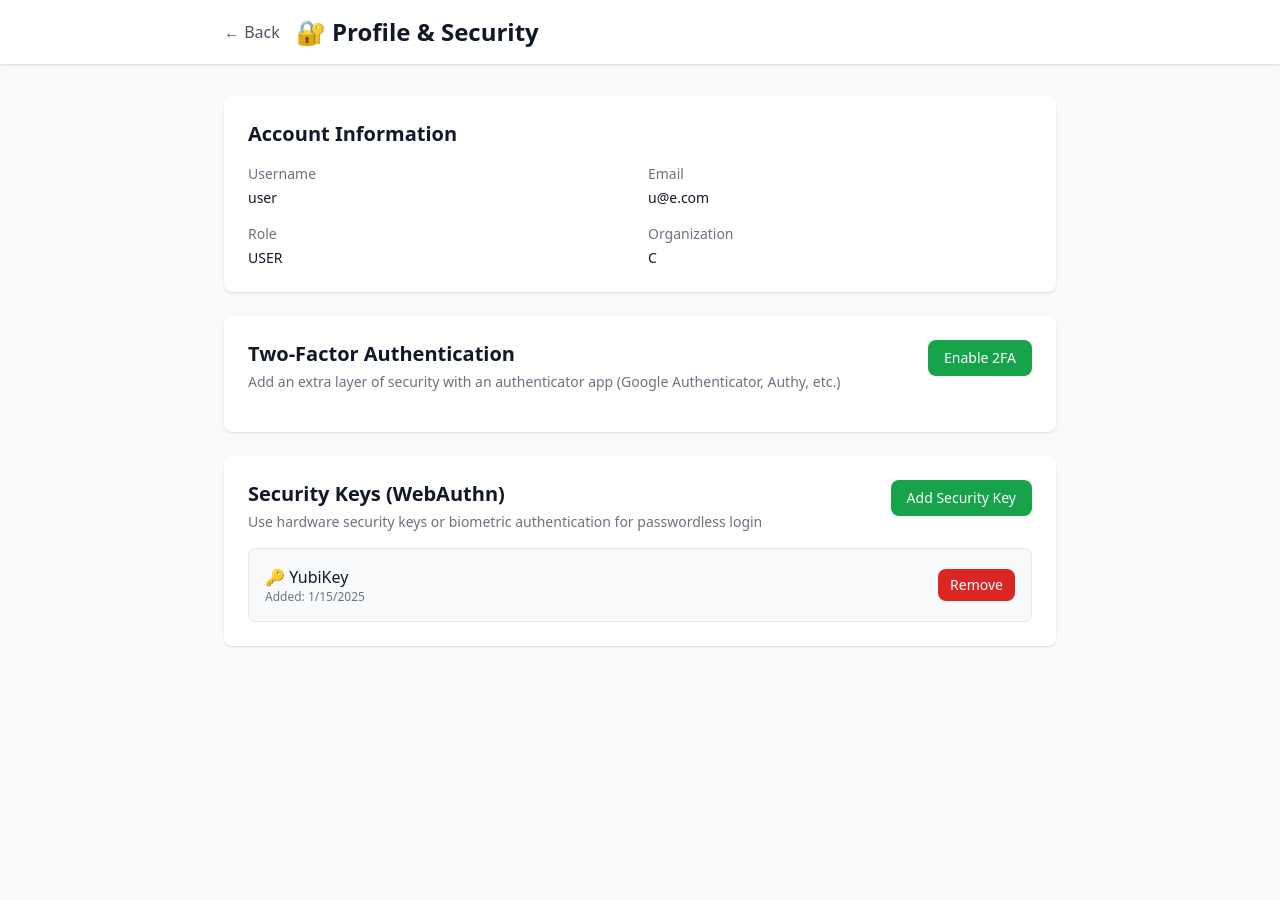
Test: Profile › should handle WebAuthn delete error
The image size is (1280, 900).
Expected: the text "🔑 YubiKey" is shown, x1=265 y1=566 x2=348 y2=588
Click the button "Remove" at (977,585), box x1=938 y1=569 x2=1015 y2=601
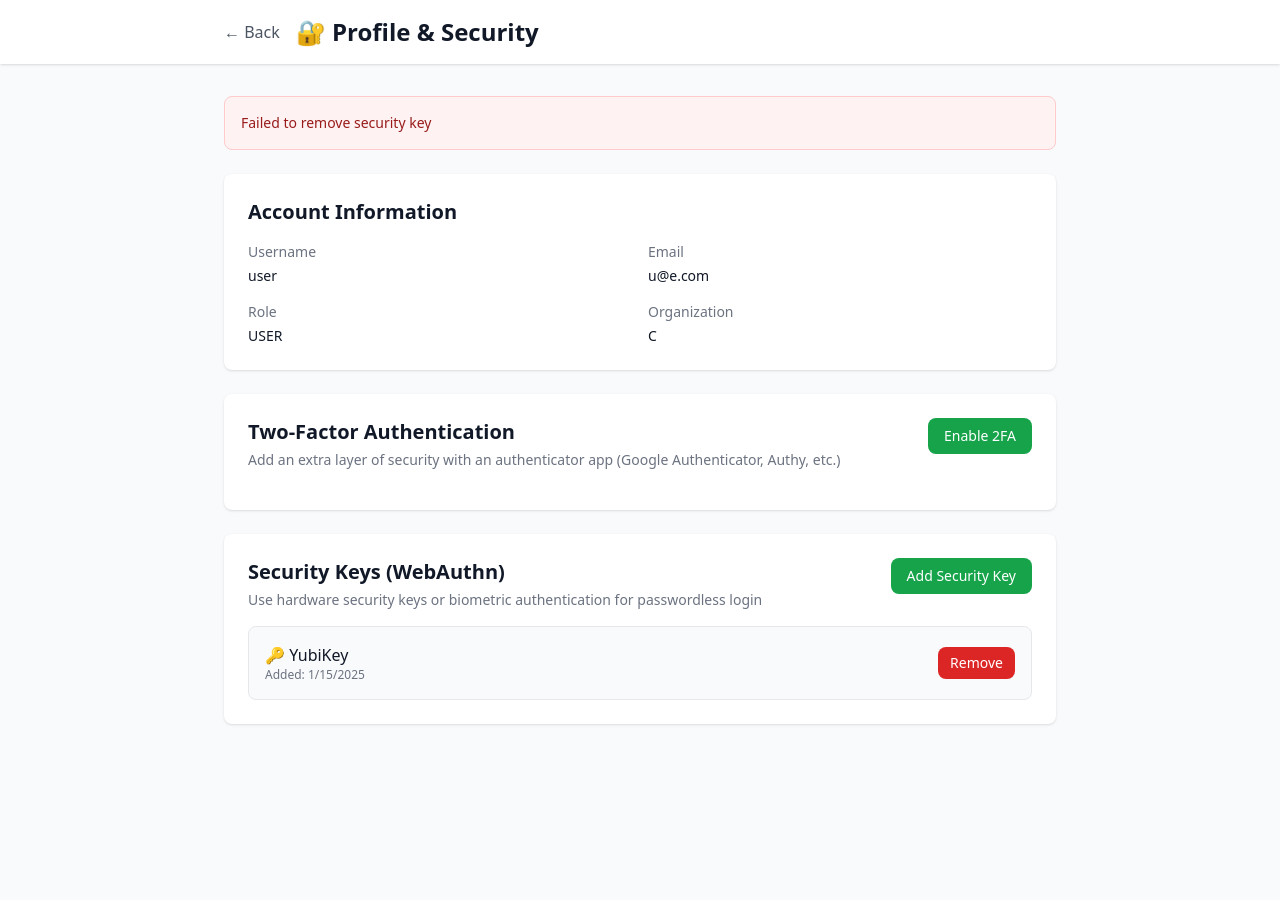
Expected: the text "Failed to remove security key" is shown, x1=241 y1=113 x2=431 y2=132
